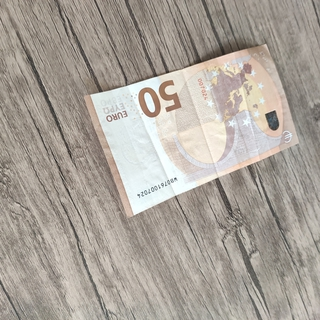50EUROBack: (81, 42, 300, 218)
